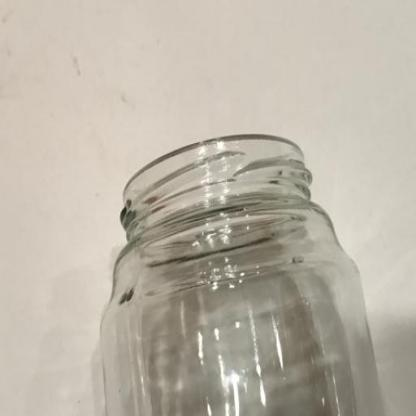trash: (98, 128, 387, 414)
